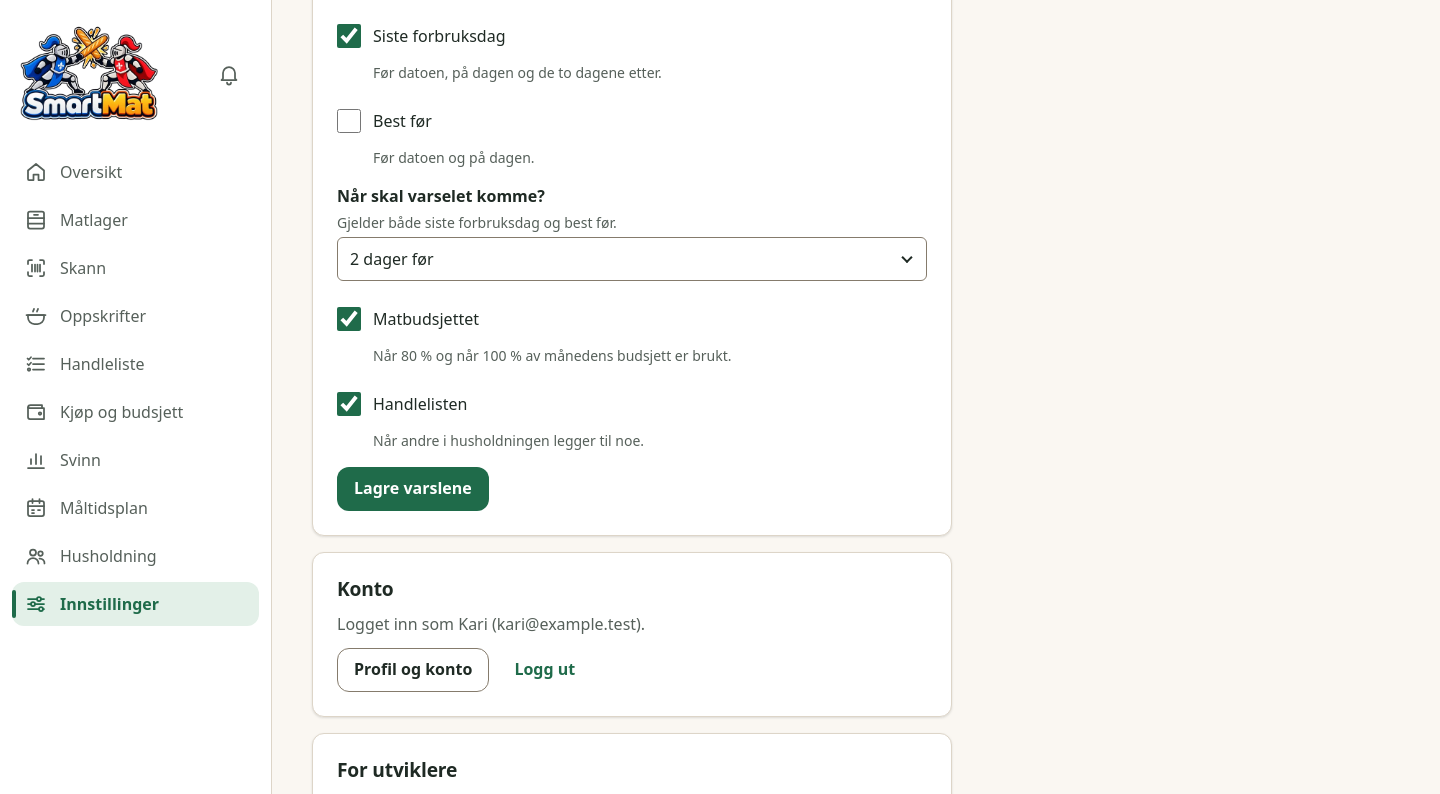
FR-NOTIF-005 notification settings › shows the saved choices and sends the whole object with the CSRF token
(page scrolled)
Expected: the checkbox labelled "Siste forbruksdag" is checked, [337, 24, 361, 48]
Expected: the checkbox labelled "Best før" is not checked, [337, 109, 361, 133]
Click the checkbox labelled "Handlelisten": (349, 404) [337, 392, 361, 416]
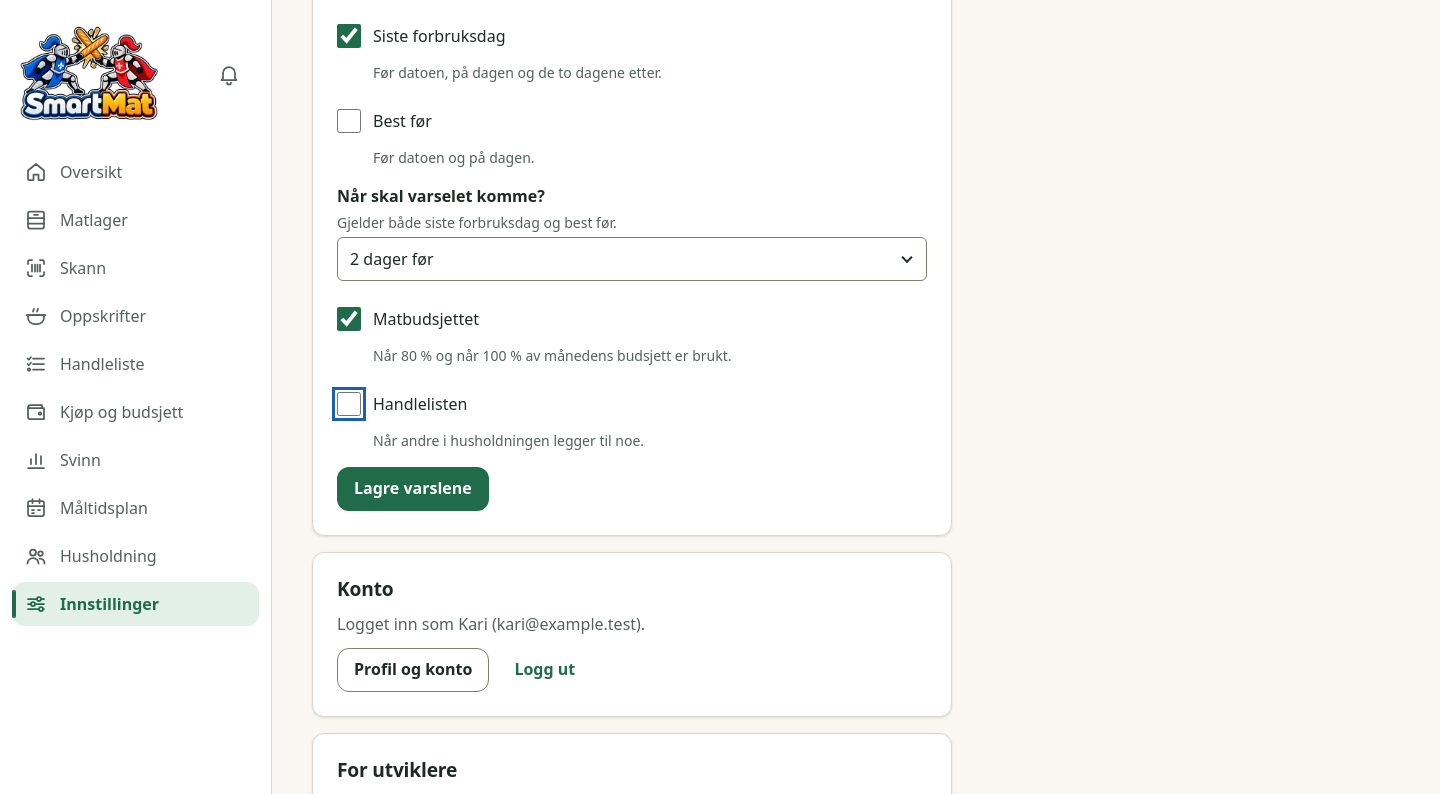
Select "Bare på dagen" in the dropdown labelled "Når skal varselet komme?": (632, 259) [337, 237, 927, 281]
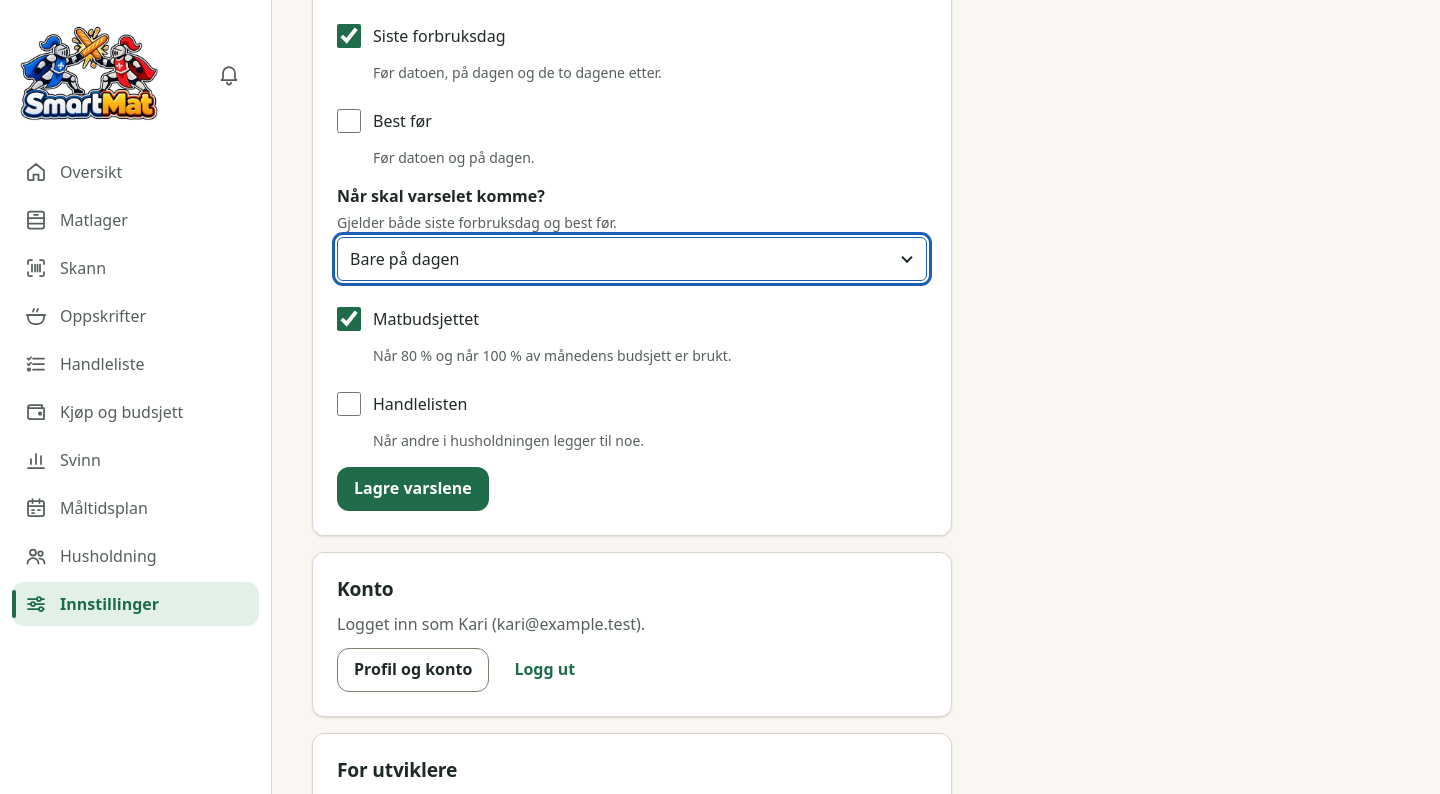
Click the button "Lagre varslene": (413, 489) [337, 467, 489, 511]
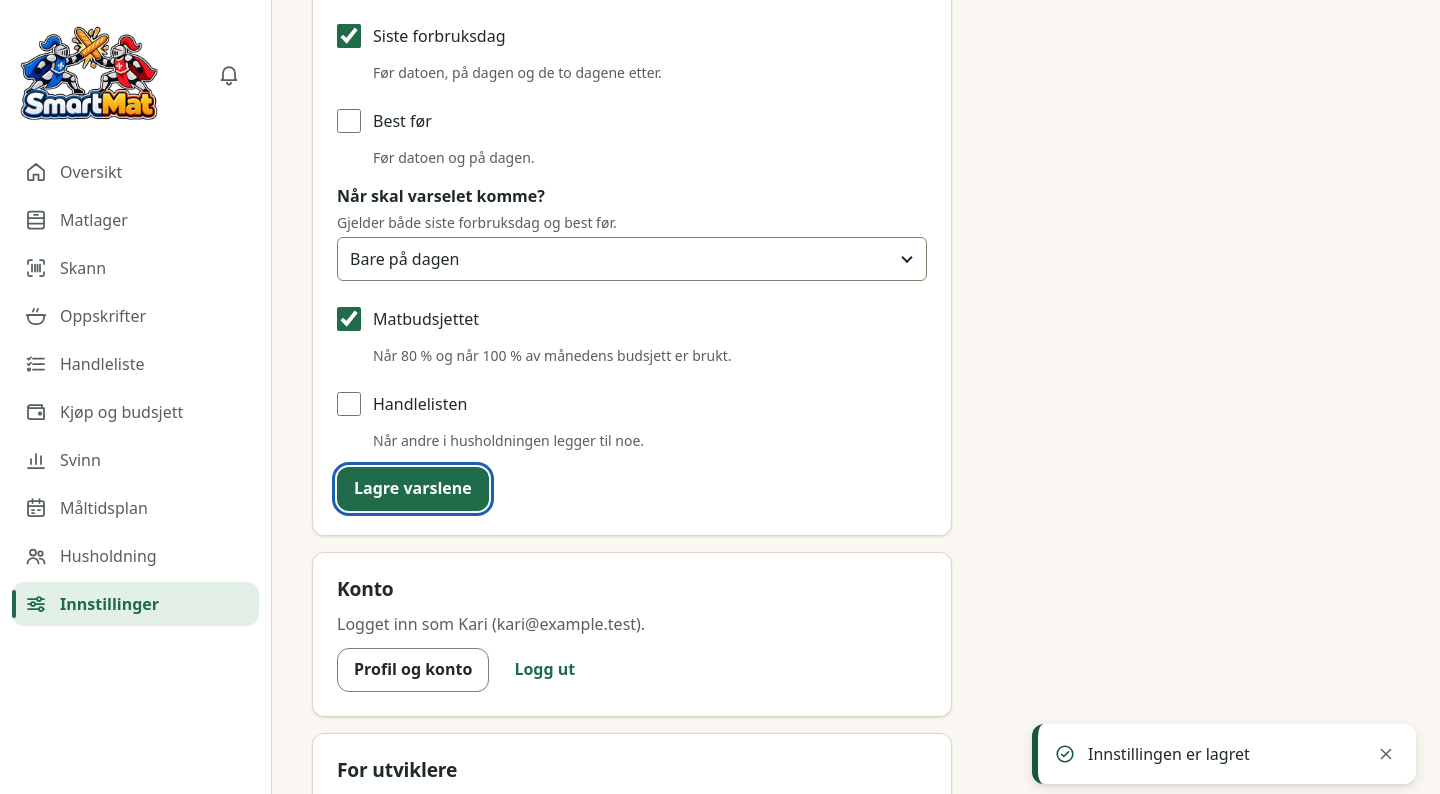
Expected: the text "Innstillingen er lagret" is shown, [1087, 742, 1250, 765]
